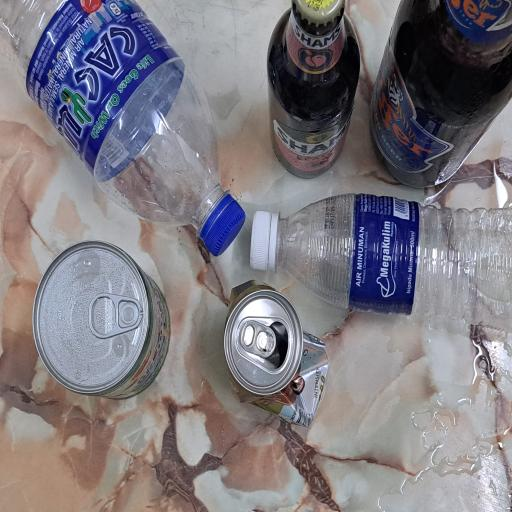can: (86, 42, 203, 227), (64, 296, 175, 440)
glass bottle: (250, 356, 384, 482)
plastic bottle: (212, 0, 384, 292), (142, 371, 240, 512)
plastic bottle cap: (191, 267, 239, 327), (180, 333, 226, 373)
pop tab: (130, 118, 164, 190), (116, 317, 142, 369)
